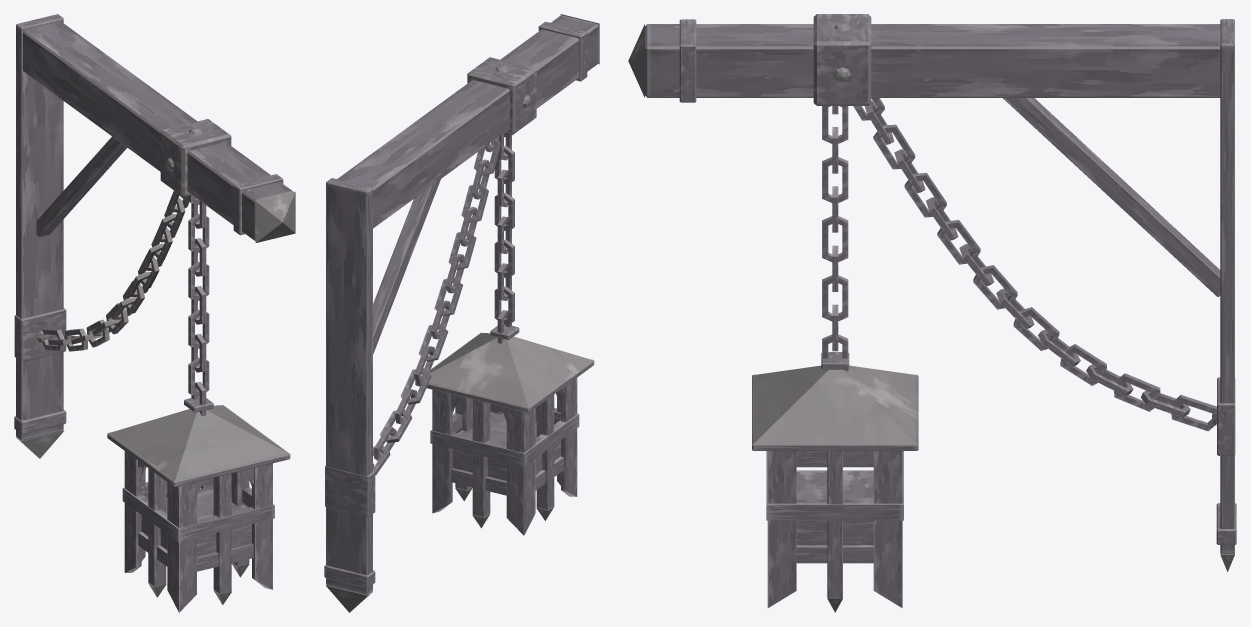
The picture shows the model from 3 angles, left to right: view 1: azimuth 30°, elevation 25°; view 2: azimuth 150°, elevation 25°; view 3: azimuth 270°, elevation 25°; orthographic projection. The views are drawn at different scales.
Visible parts, largest first — view 1: source; view 2: source; view 3: source.
Part boxes in pixels (x1,y1,x2,y2): source: (14, 14, 295, 612); source: (324, 14, 599, 612); source: (628, 14, 1236, 612).
Size of the model in its own units: 0.3573 by 1.34 by 1.3.
1 material, 1 textured.
